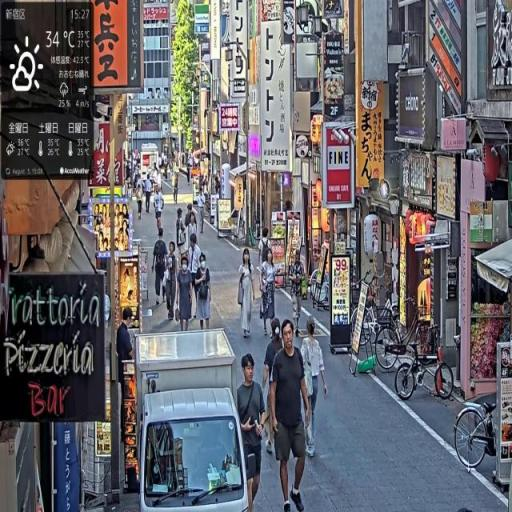person: (269, 320, 311, 511), (238, 352, 269, 512), (302, 316, 330, 454), (263, 318, 285, 459), (114, 308, 142, 411), (195, 253, 218, 336), (239, 248, 258, 340), (259, 249, 277, 342), (152, 226, 171, 307), (288, 249, 306, 334), (164, 240, 181, 325), (176, 256, 194, 335), (187, 236, 205, 300), (258, 226, 273, 279)
